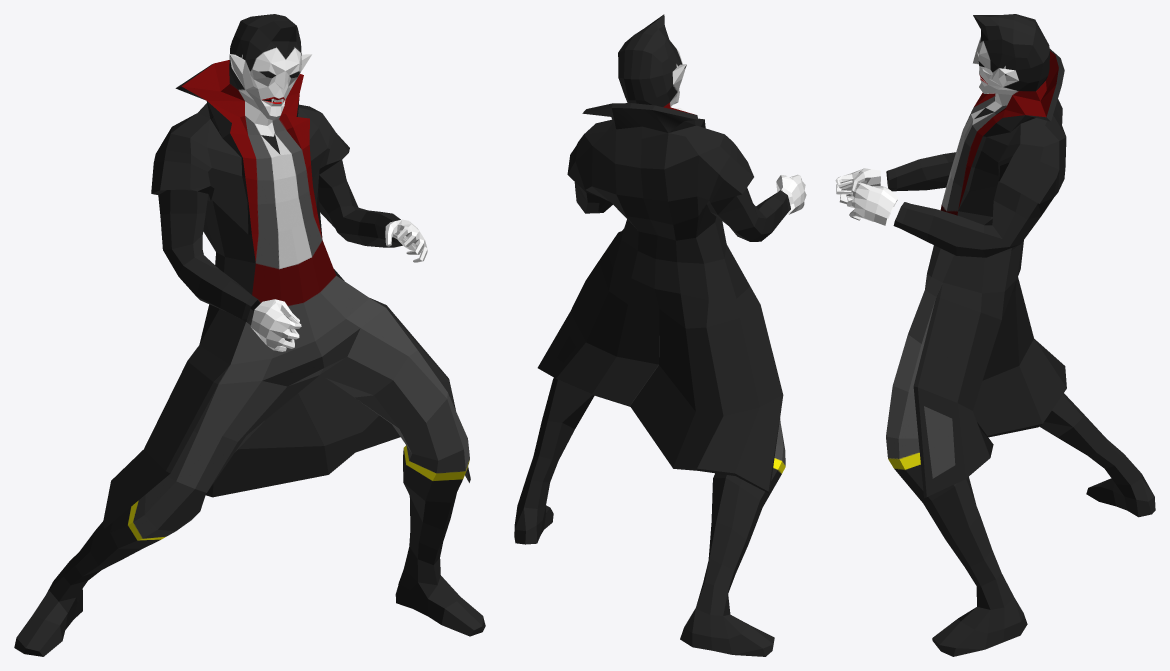
Rendered from VampireAttack(11).obj.
3 renders of one model, left to right at view 1: azimuth 30°, elevation 25°; view 2: azimuth 150°, elevation 25°; view 3: azimuth 270°, elevation 25°, orthographic. The views are drawn at different scales.
Parts seen in each view (by area): view 1: Plane002; view 2: Plane002; view 3: Plane002.
Part boxes in pixels (box(x1,y1,x2,y2)): Plane002: box(14, 14, 485, 656); Plane002: box(514, 14, 806, 656); Plane002: box(835, 14, 1155, 656).
Size of the model in its own units: 189 by 304 by 156.
